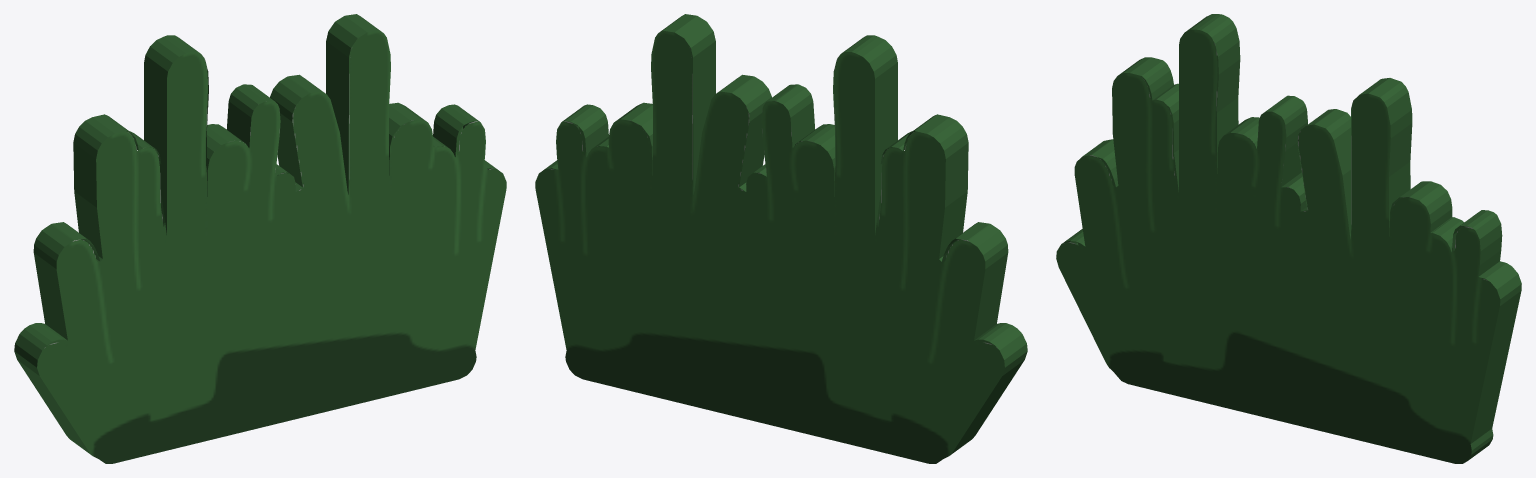
File: GrassTuft02.fbx
3 renders of one model, left to right at view 1: azimuth 30°, elevation 25°; view 2: azimuth 150°, elevation 25°; view 3: azimuth 330°, elevation 25°, orthographic. The views are drawn at different scales.
Parts seen in each view (by area): view 1: Grass02; view 2: Grass02; view 3: Grass02.
Part boxes in pixels (left/top/right/bottom): Grass02: left=14, top=14, right=506, bottom=463; Grass02: left=535, top=14, right=1027, bottom=463; Grass02: left=1056, top=14, right=1521, bottom=463.
Bounding box in the file's own units: 0.5657 × 0.4522 × 0.0475.
